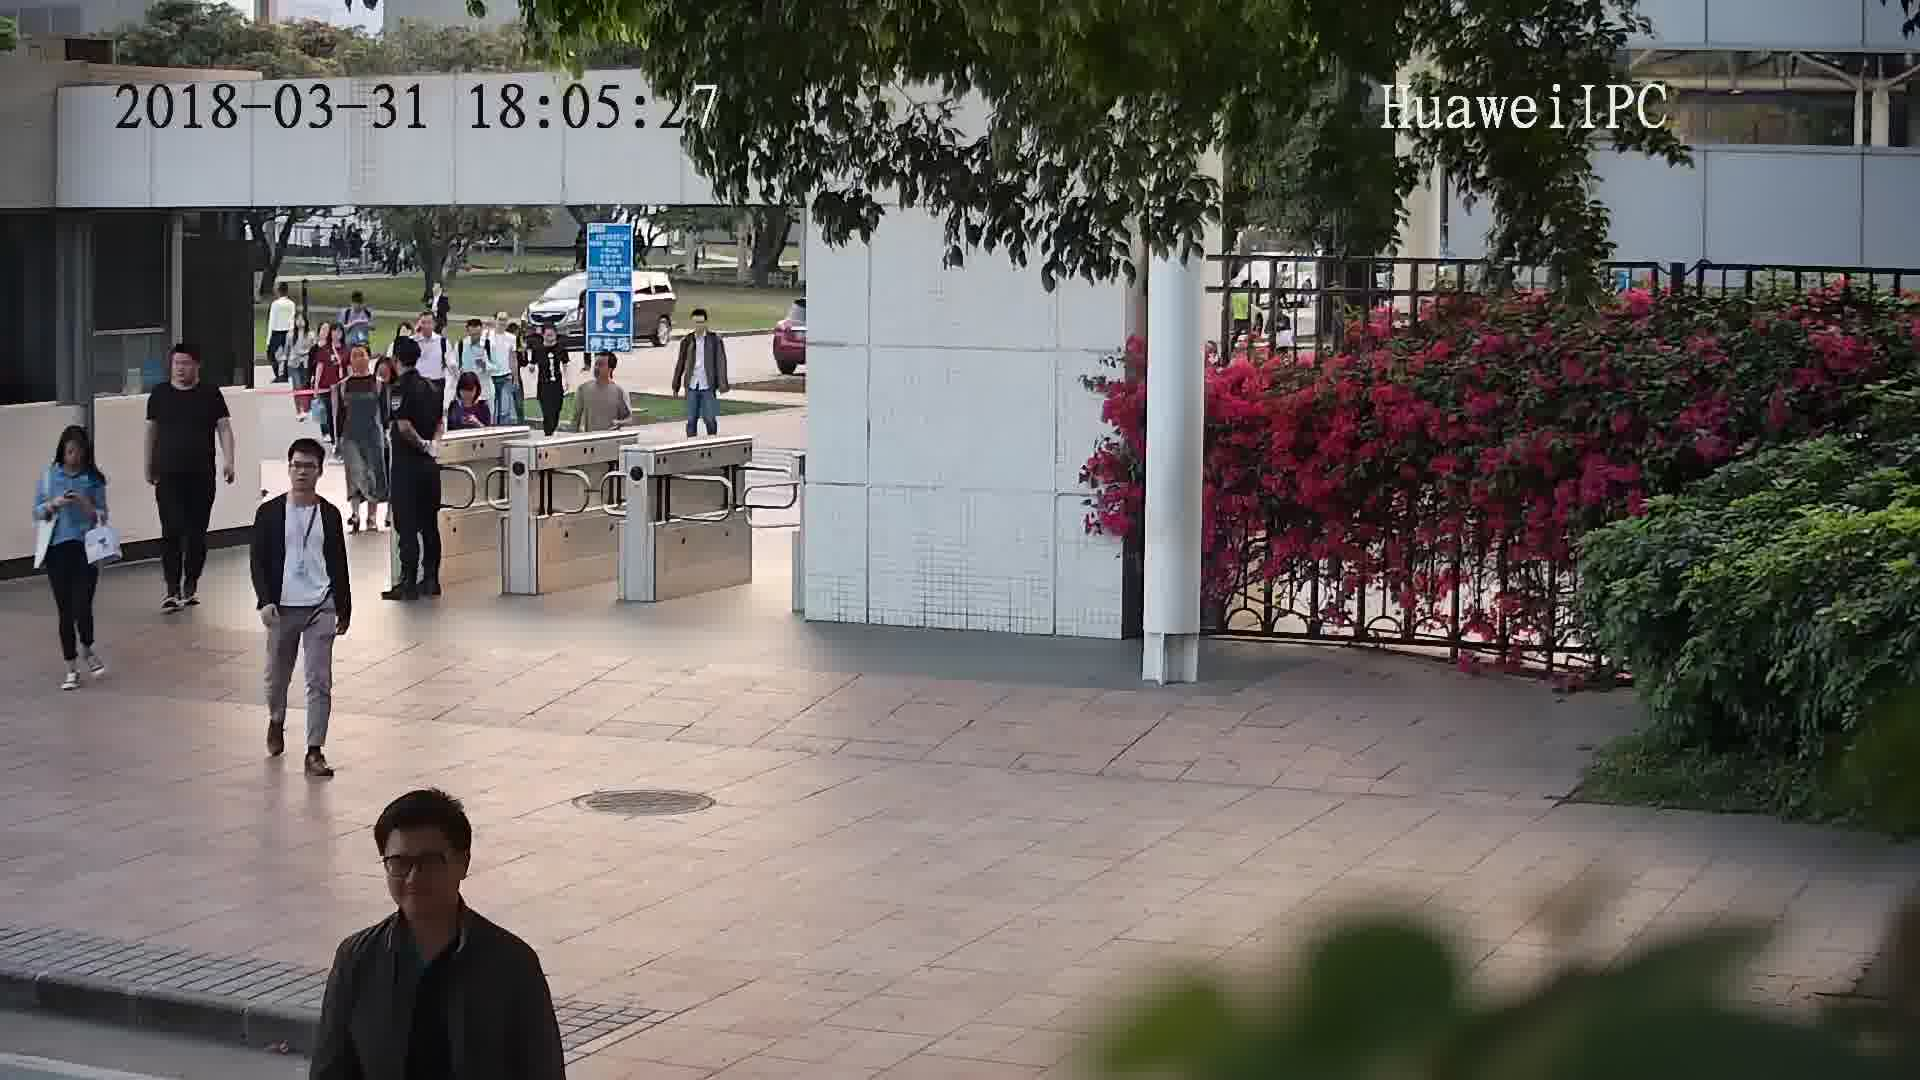face: (374, 822, 468, 916), (282, 447, 321, 497), (166, 351, 198, 388)
person: (326, 784, 547, 1002), (259, 434, 345, 531), (151, 341, 229, 414), (43, 421, 105, 485), (391, 337, 436, 398), (339, 340, 382, 395), (578, 347, 628, 394), (447, 371, 488, 422), (310, 319, 351, 362), (684, 305, 724, 348), (417, 310, 448, 346), (459, 313, 490, 348), (287, 309, 319, 343), (539, 320, 569, 355), (491, 314, 521, 345), (271, 277, 301, 310), (345, 287, 374, 320), (423, 280, 454, 308)
